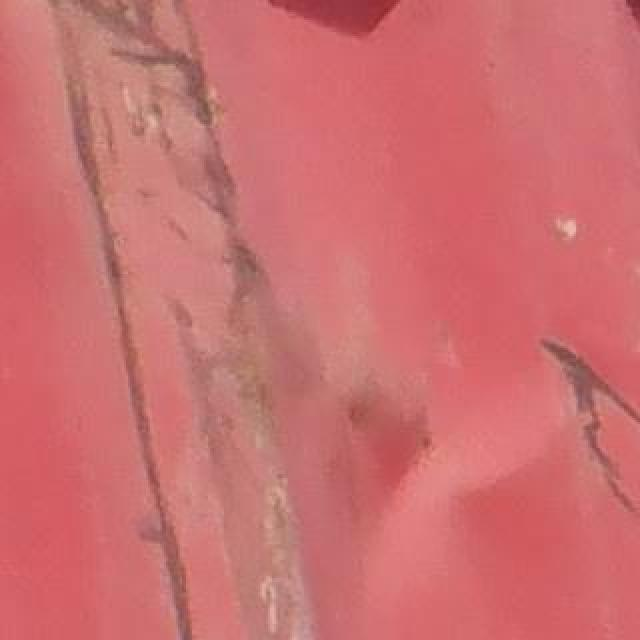dent: (213, 233, 617, 587)
